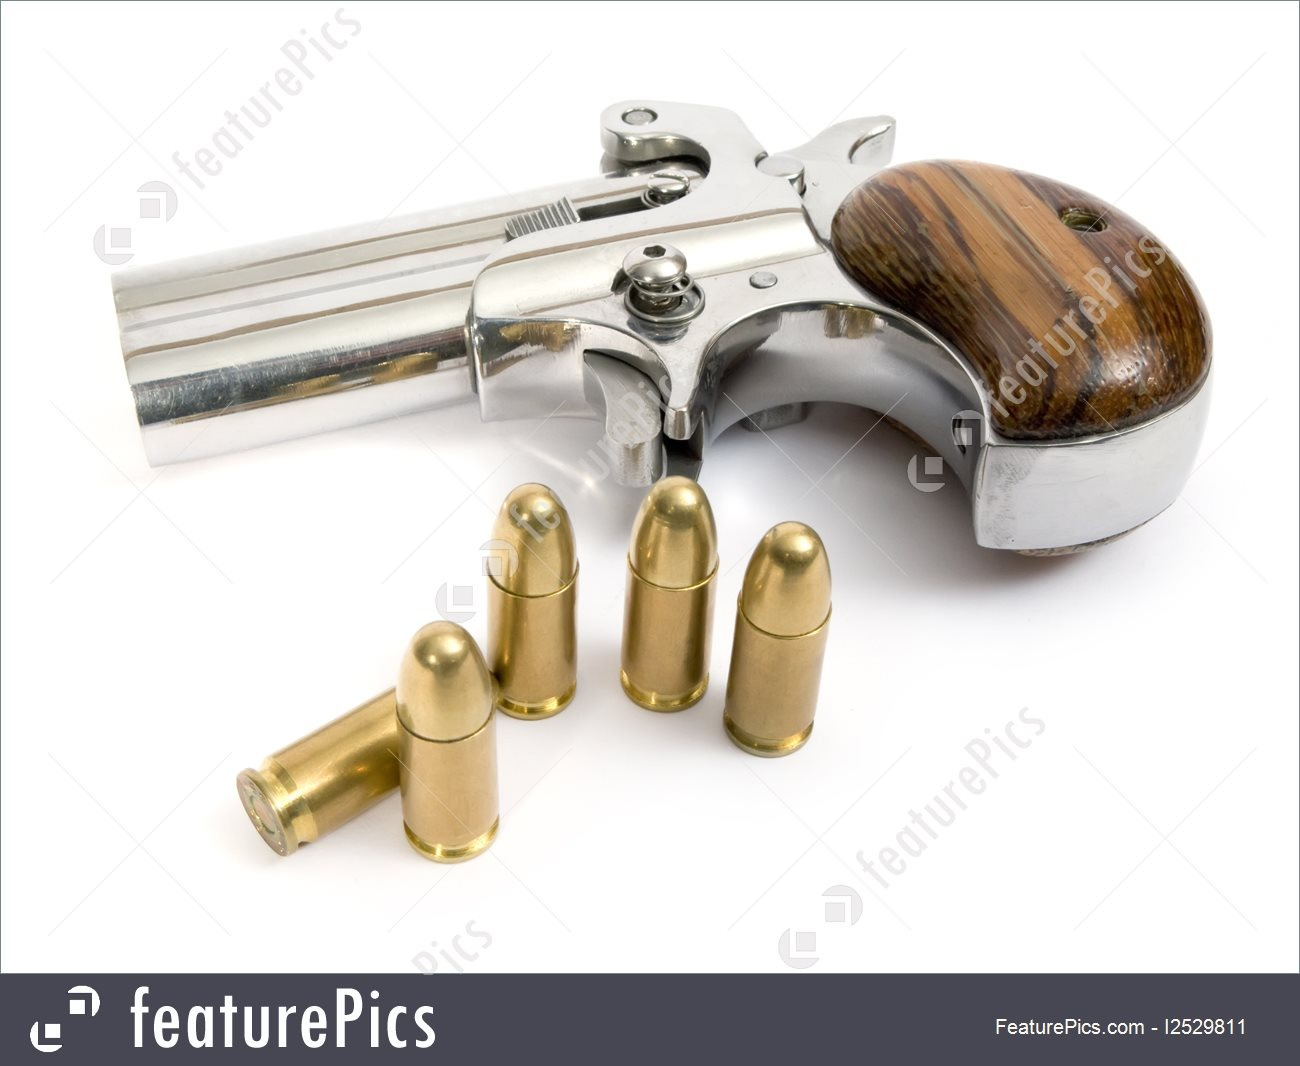bullet: (722, 500, 834, 766), (400, 624, 505, 875), (485, 468, 581, 721)
gun: (100, 87, 1217, 547)
